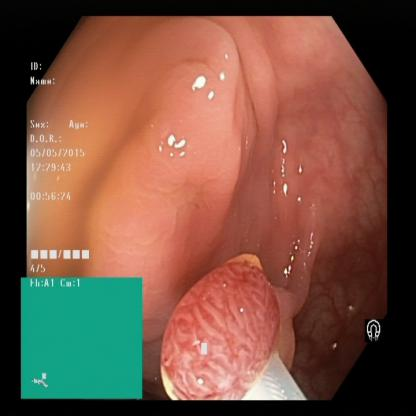Labels: (27, 57, 103, 276), (20, 275, 143, 400), (356, 320, 388, 348)
Polyps: (158, 259, 280, 391)
